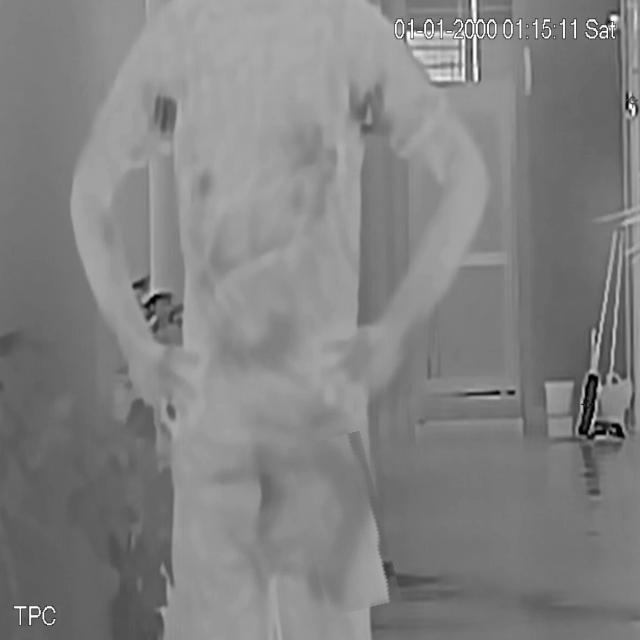Weapon: (298, 434, 392, 614)
